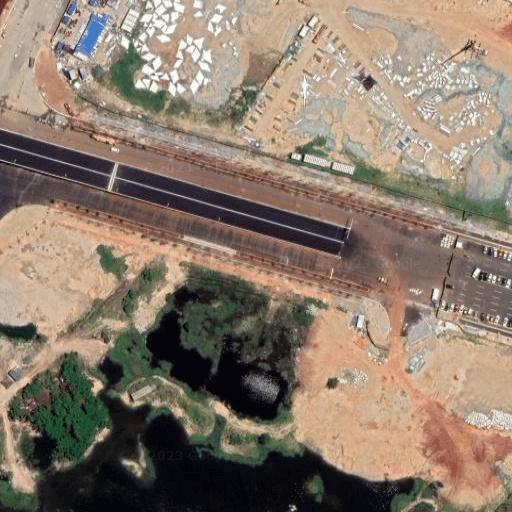building: (72, 17, 105, 61), (120, 9, 139, 33), (332, 161, 355, 175), (303, 155, 329, 167), (91, 13, 107, 24), (66, 2, 78, 16), (307, 14, 319, 28), (298, 25, 309, 36), (104, 0, 116, 10), (79, 68, 87, 80), (61, 16, 69, 24), (68, 69, 75, 77), (103, 12, 110, 20), (56, 43, 62, 51), (89, 0, 96, 5)
